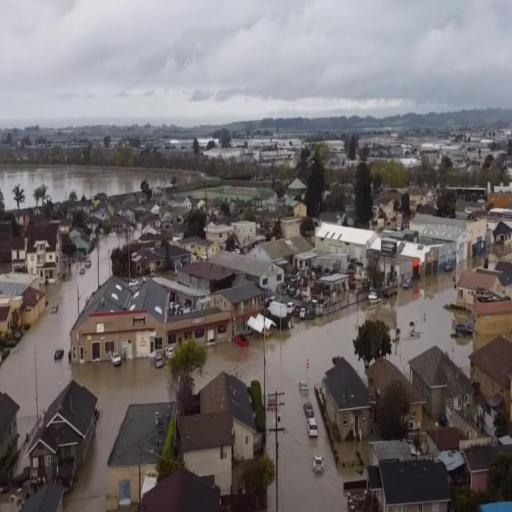flood: (267, 272, 474, 510), (0, 248, 169, 511), (0, 255, 168, 510), (0, 164, 174, 209), (195, 334, 263, 391), (456, 216, 512, 282), (99, 225, 127, 279), (129, 223, 141, 242)
house: (68, 276, 170, 376), (27, 376, 100, 478), (360, 436, 450, 512), (408, 341, 474, 427), (199, 370, 256, 459), (180, 410, 236, 496), (318, 354, 370, 446), (367, 354, 426, 432), (107, 398, 174, 466), (470, 332, 512, 426), (208, 279, 265, 340), (23, 224, 65, 287), (316, 220, 378, 258), (459, 443, 490, 490), (21, 283, 47, 328), (290, 236, 314, 272), (132, 247, 162, 272), (455, 225, 473, 259), (422, 241, 440, 272), (233, 220, 257, 240), (493, 219, 512, 244), (379, 192, 395, 220), (282, 216, 301, 236), (0, 307, 13, 336), (110, 214, 126, 230)
